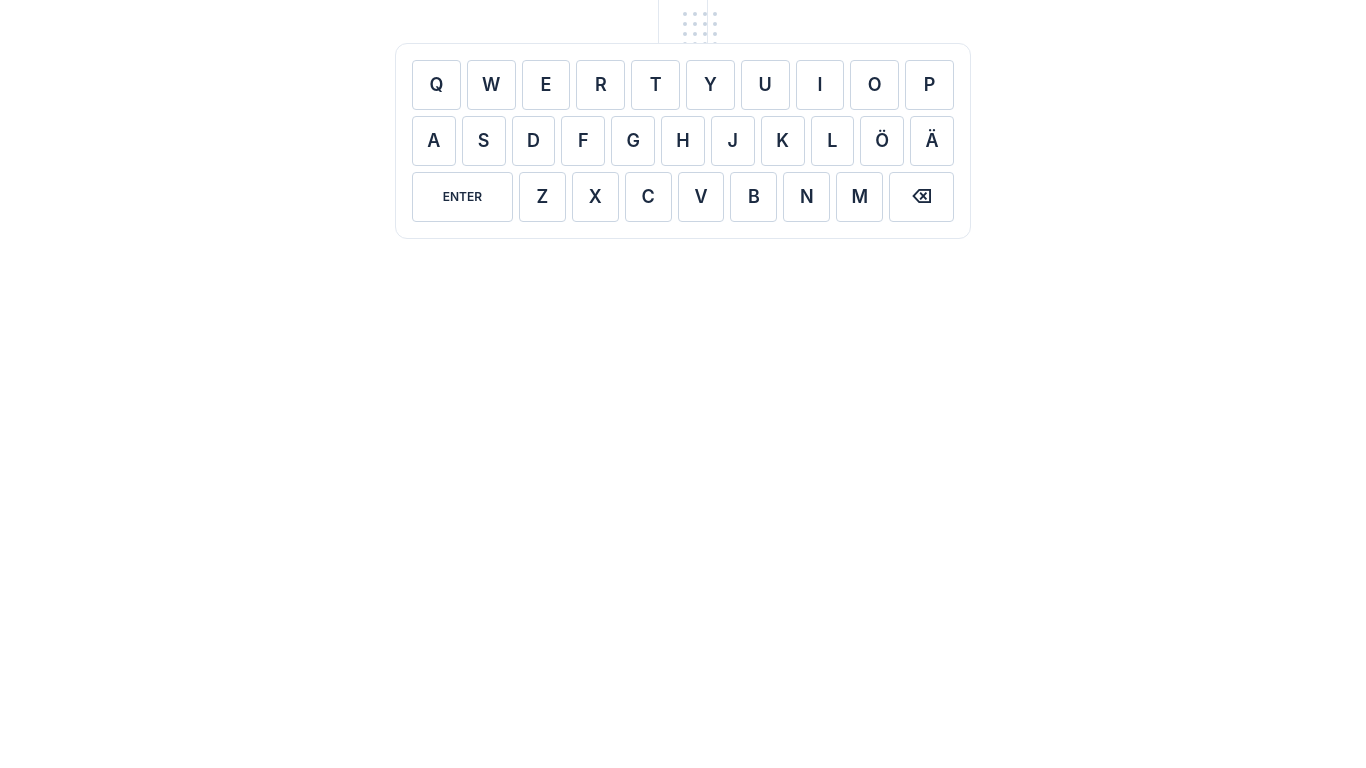
it: SanuriGame › shows the win modal on a correct guess and resets on play again
Expected: the button "K" is enabled, [761,116,804,166]
What coordinates should you click on to do the following:
click the button "A"
I would click on:
 (434, 141)
Its box is [412,116,456,166].
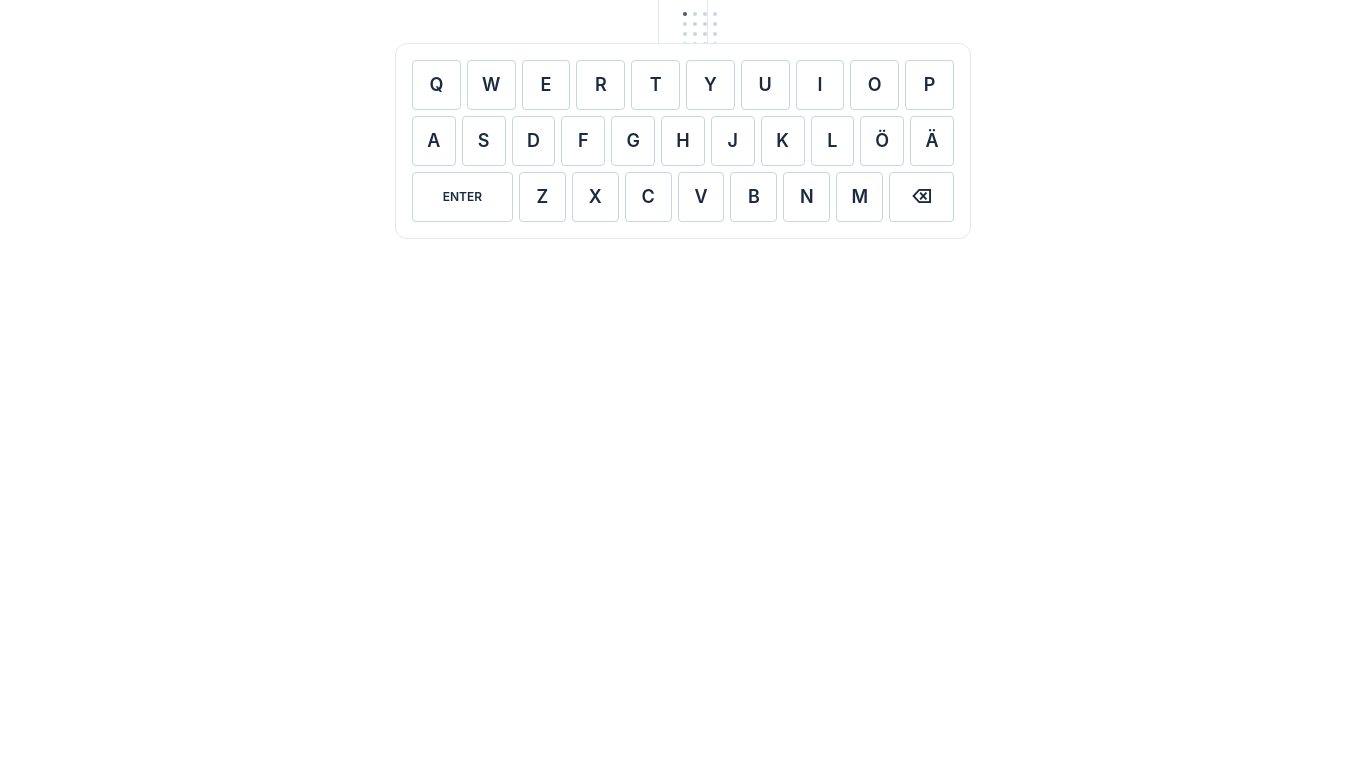
What coordinates should you click on to do the following:
click the button "A"
I would click on:
 (434, 141)
Its box is [412,116,456,166].
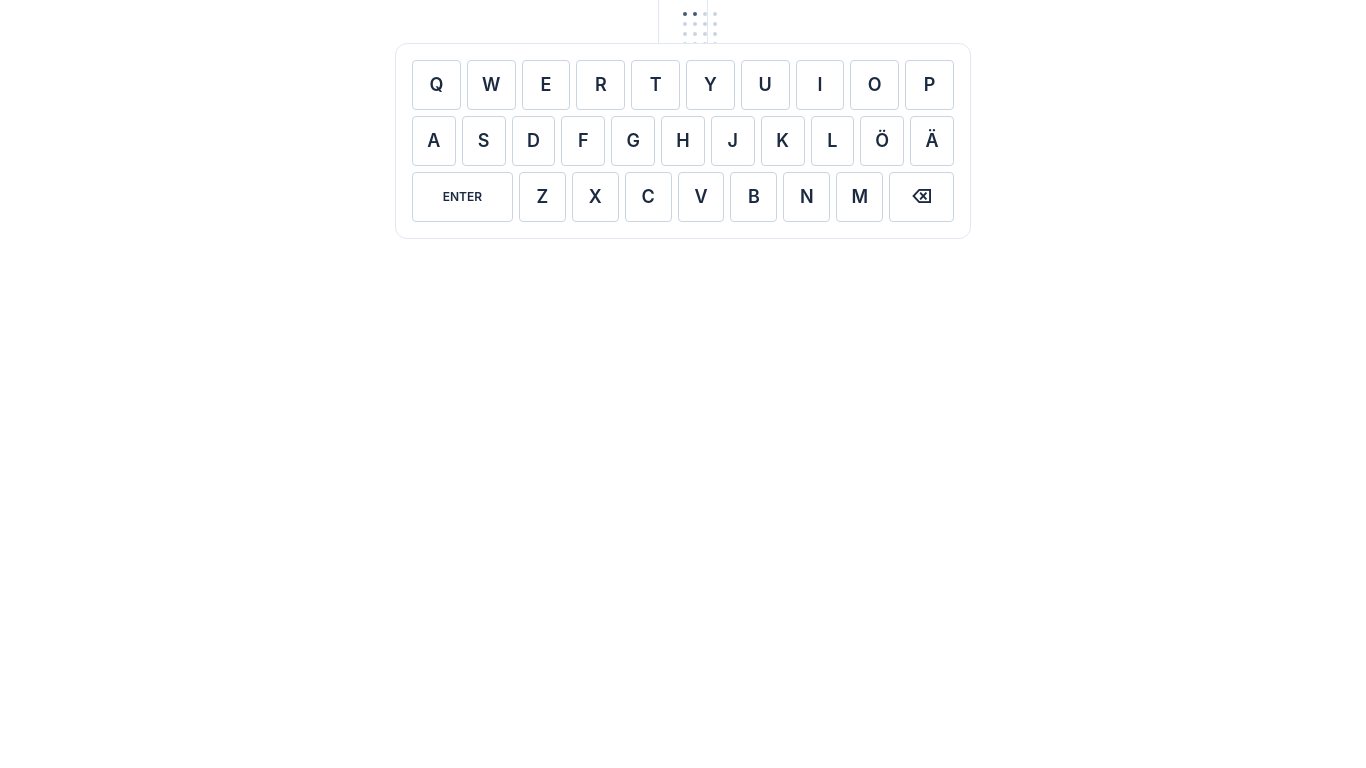
What coordinates should you click on to do the following:
click the button "M"
I would click on:
 (860, 197)
Its box is [836,172,883,222].
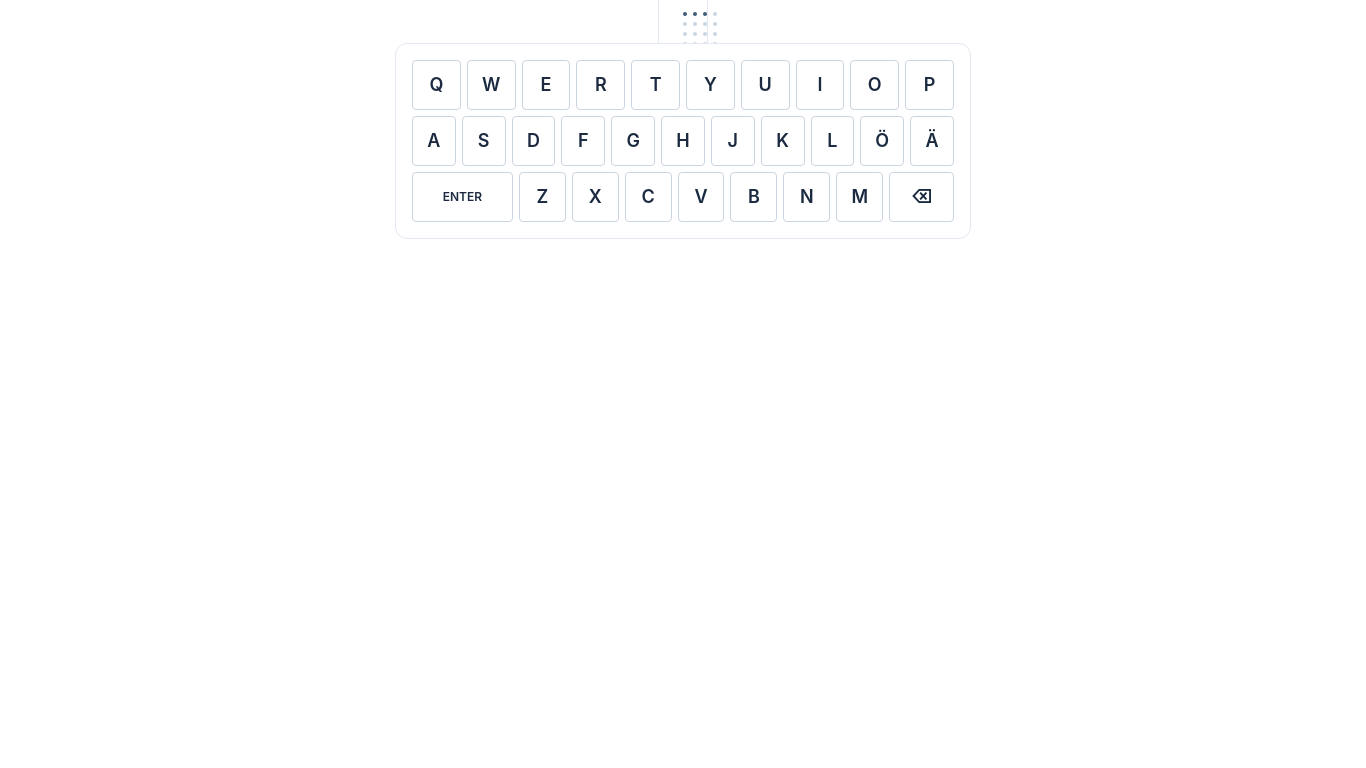
What coordinates should you click on to do the following:
click the button "U"
I would click on:
 (765, 85)
Its box is [741,60,790,110].
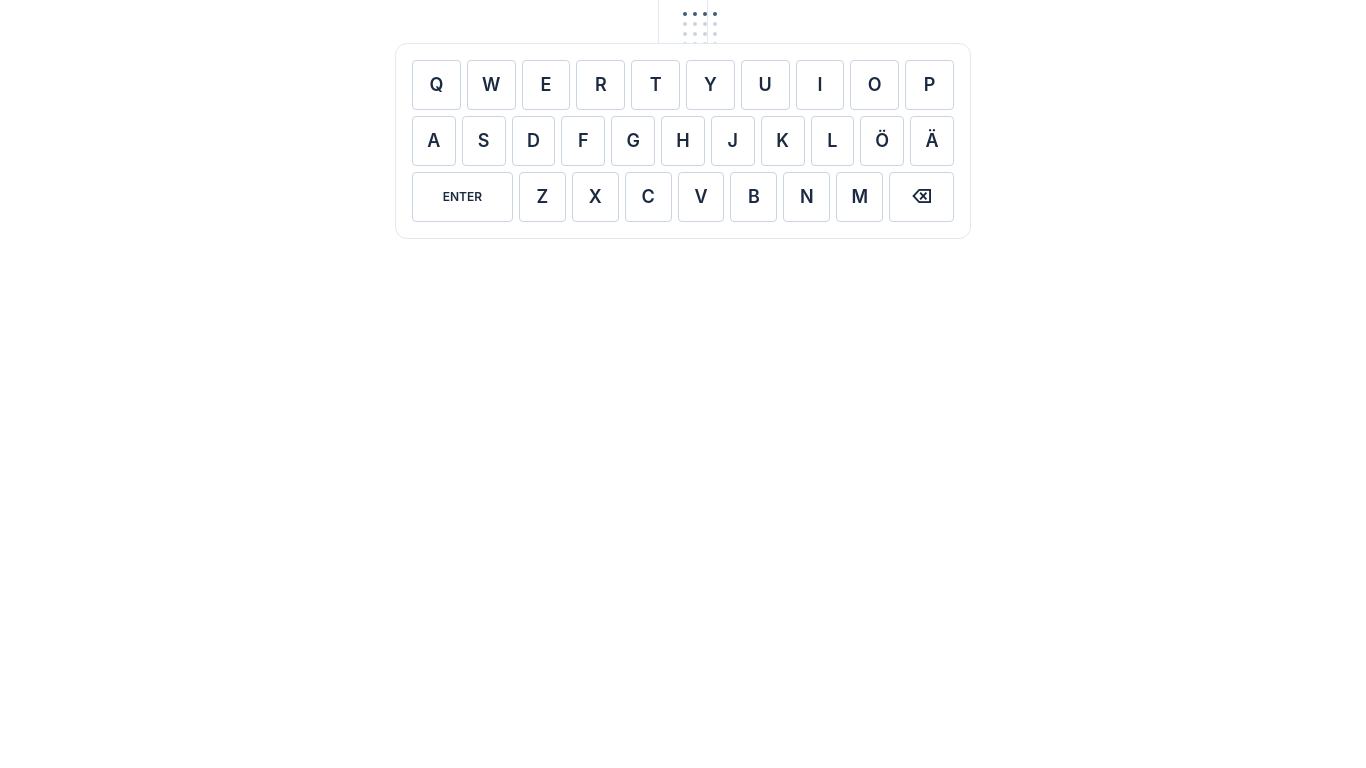
What coordinates should you click on to do the following:
click the button with aria-label "Tarkista arvaus"
I would click on:
 (462, 197)
Its box is [412,172,513,222].
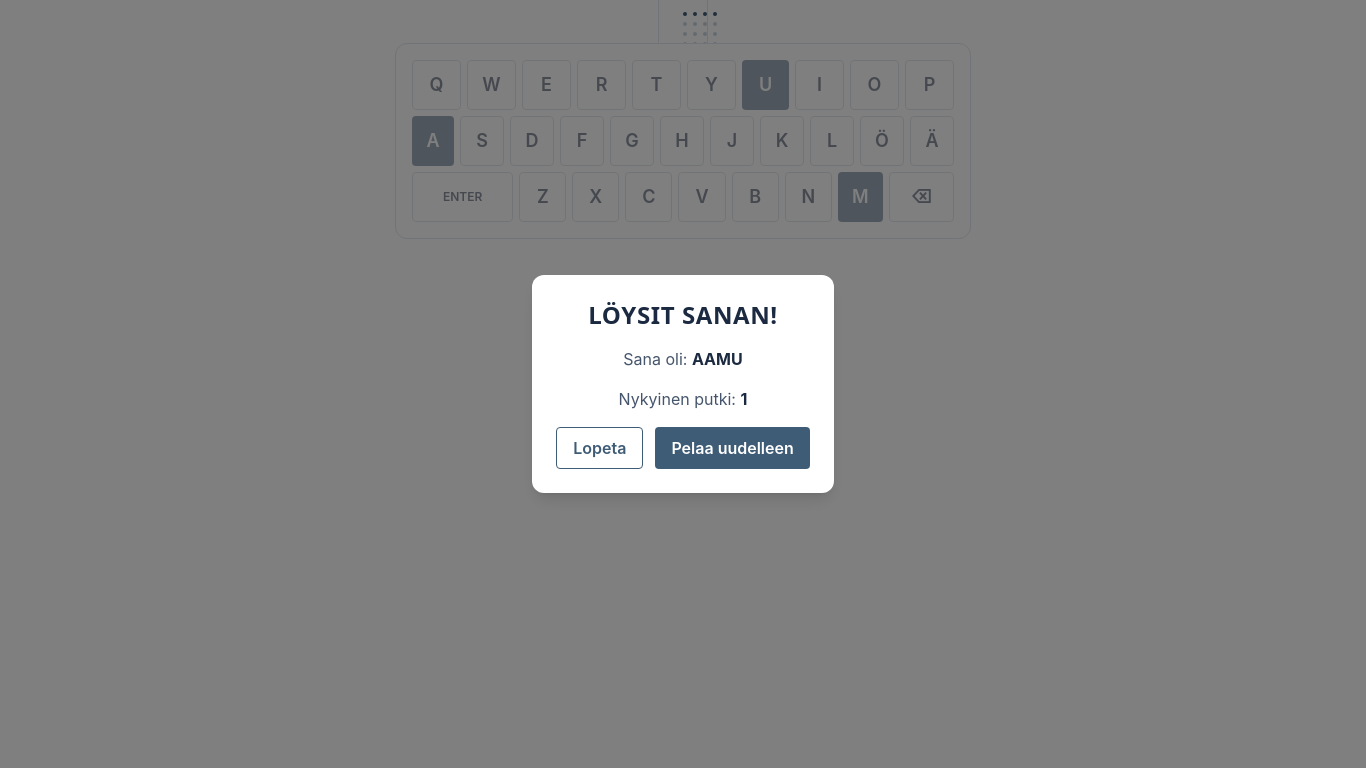
Expected: the heading "Löysit sanan!" is shown, [588,299,778,331]
Expected: the button "K" is disabled, [760,116,804,166]
What coordinates should you click on to do the following:
click the button "Pelaa uudelleen"
I would click on:
 (733, 448)
Its box is [655,427,810,469].
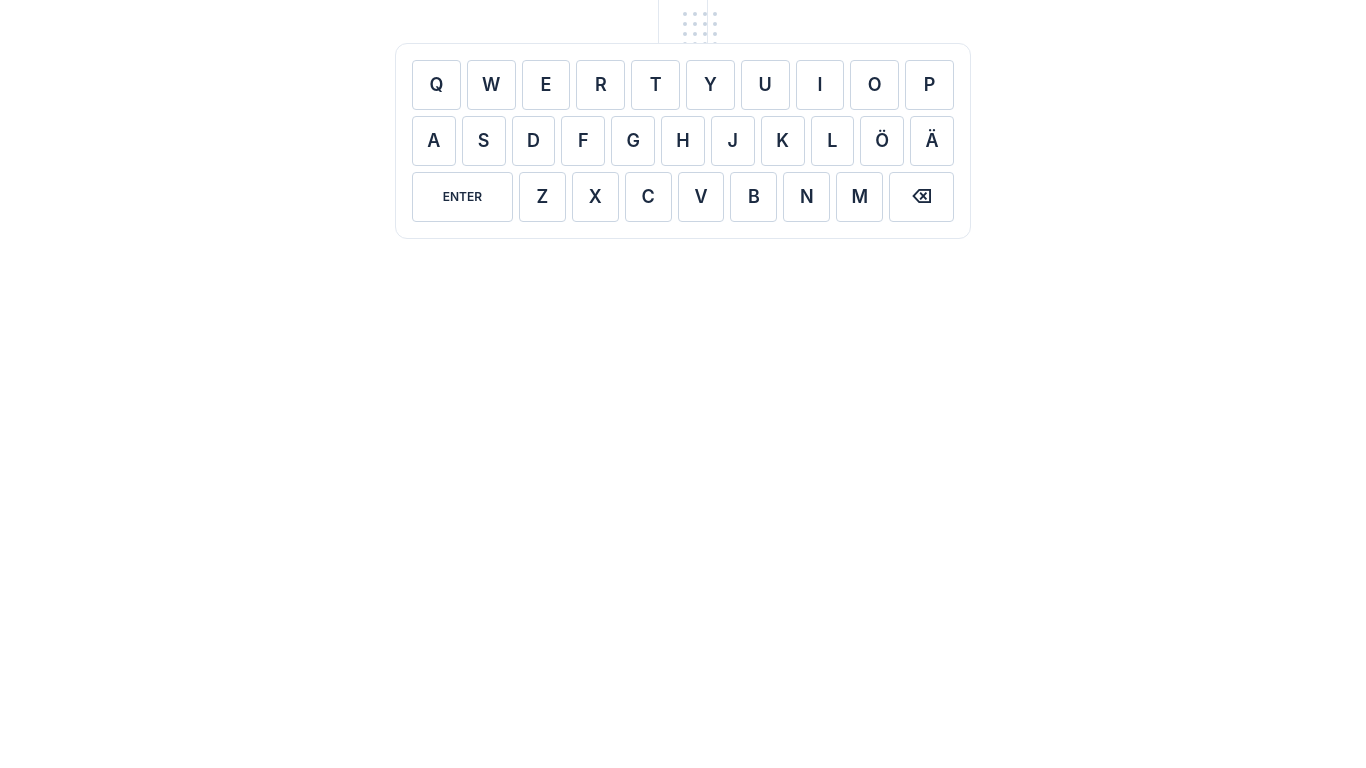
Expected: the dialog is gone
Expected: the button "K" is enabled, [761,116,804,166]
